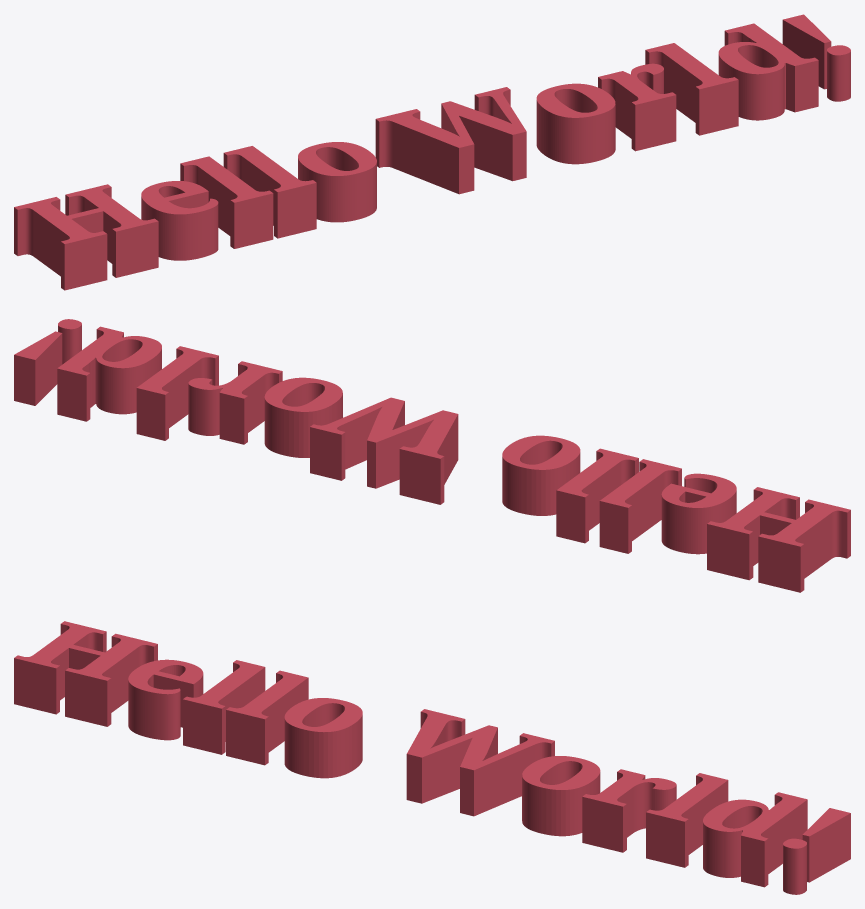
The picture shows the model from 3 angles, top to bottom: view 1: azimuth 30°, elevation 25°; view 2: azimuth 150°, elevation 25°; view 3: azimuth 330°, elevation 25°; orthographic projection.
Visible parts, largest first — view 1: Mesh_Mesh_head_geo.001_lambert2SG.001; view 2: Mesh_Mesh_head_geo.001_lambert2SG.001; view 3: Mesh_Mesh_head_geo.001_lambert2SG.001.
Boxes of the visible parts, x1,y1,x2,y2 form: Mesh_Mesh_head_geo.001_lambert2SG.001: (14,14,850,290); Mesh_Mesh_head_geo.001_lambert2SG.001: (14,319,850,592); Mesh_Mesh_head_geo.001_lambert2SG.001: (14,621,850,894).
Bounding box in the file's own units: 178 × 10 × 21.38.
